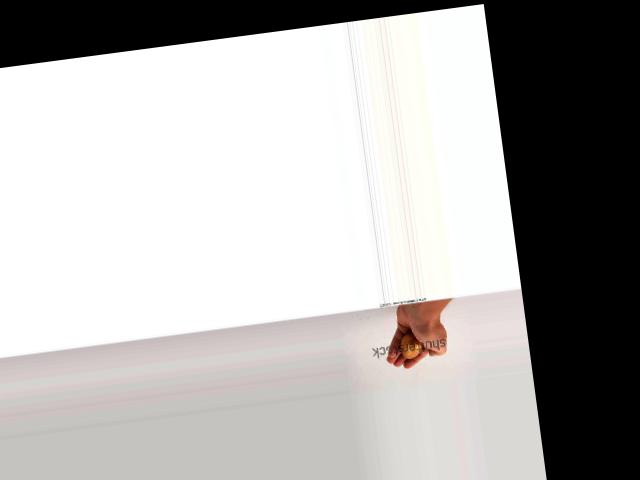egg: (398, 331, 422, 359)
